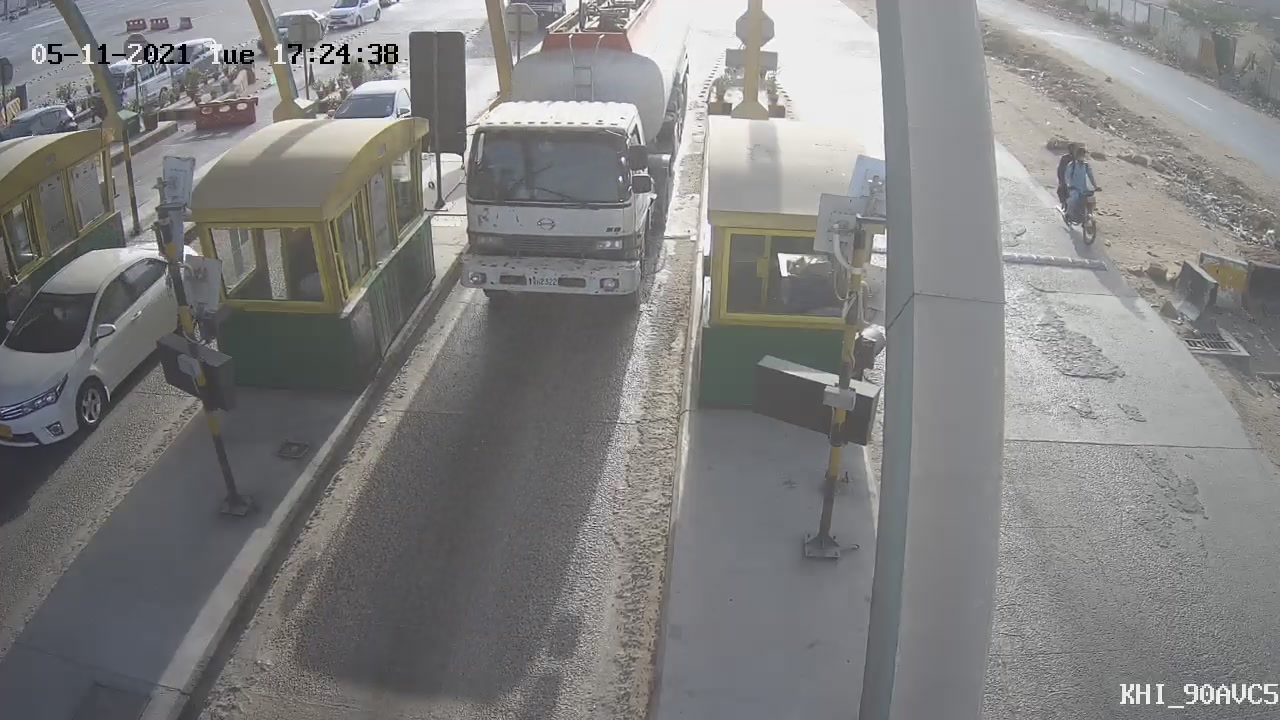F6: (422, 1, 704, 340)
